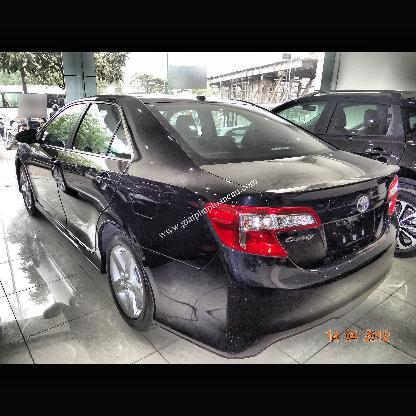Toyota Camry Sedan 2012: (13, 94, 404, 362)
